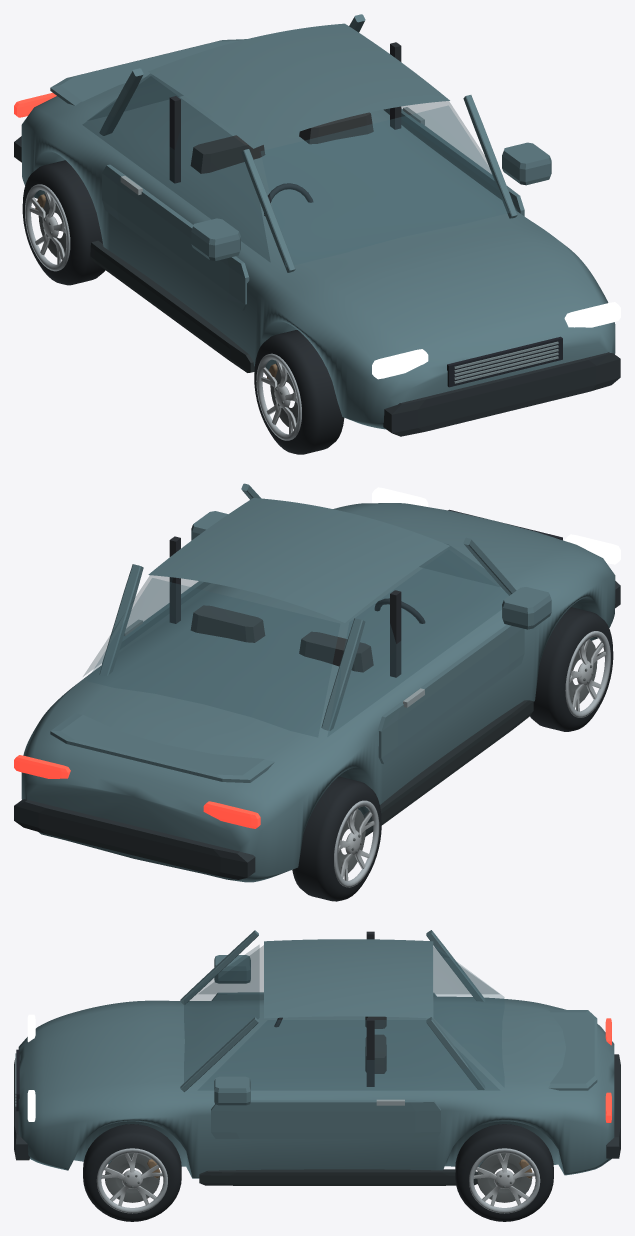
File: dc-native-sedan.glb
3 renders of one model, top to bottom at view 1: azimuth 30°, elevation 25°; view 2: azimuth 150°, elevation 25°; view 3: azimuth 270°, elevation 25°, orthographic. The views are drawn at different scales.
Visible parts, largest first — view 1: asset_BODY_shell, body (×14), asset_GLASS_windshield, roof, asset_GLASS_side_L, FrontLeft_tire, RearLeft_tire, asset_GLASS_side_R, box (×2), asset_GLASS_rear, RearLeft_rim, FrontLeft_rim (+2 smaller); view 2: asset_BODY_shell, body (×15), asset_GLASS_rear, roof, asset_GLASS_side_L, RearLeft_tire, FrontLeft_tire, asset_GLASS_side_R, box (×2), asset_GLASS_windshield, RearLeft_rim, FrontLeft_rim (+2 smaller); view 3: asset_BODY_shell, body (×13), asset_GLASS_side_R, roof, asset_GLASS_windshield, asset_GLASS_rear, RearRight_tire, FrontRight_tire, asset_GLASS_side_L, FrontRight_wheelBrake, RearRight_wheelBrake, FrontRight_rim (+4 smaller).
Part boxes in pixels (<box>): asset_BODY_shell: <box>21,75,615,429</box>; body (×14): <box>50,39,620,436</box>; asset_GLASS_windshield: <box>261,106,516,266</box>; roof: <box>148,23,449,148</box>; asset_GLASS_side_L: <box>83,76,270,261</box>; FrontLeft_tire: <box>254,330,344,454</box>; RearLeft_tire: <box>22,160,105,285</box>; asset_GLASS_side_R: <box>388,101,514,201</box>; box (×2): <box>169,96,562,387</box>; asset_GLASS_rear: <box>87,74,183,120</box>; RearLeft_rim: <box>25,184,70,271</box>; FrontLeft_rim: <box>256,353,301,440</box>; asset_BODY_shell: <box>21,503,615,882</box>; body (×15): <box>14,487,620,879</box>; asset_GLASS_rear: <box>87,578,339,737</box>; roof: <box>148,498,449,622</box>; asset_GLASS_side_L: <box>327,550,509,736</box>; RearLeft_tire: <box>292,776,381,901</box>; FrontLeft_tire: <box>530,607,613,731</box>; asset_GLASS_side_R: <box>83,575,210,676</box>; box (×2): <box>169,536,401,677</box>; asset_GLASS_windshield: <box>419,544,515,590</box>; RearLeft_rim: <box>334,800,379,887</box>; FrontLeft_rim: <box>565,631,610,717</box>; asset_BODY_shell: <box>18,996,614,1178</box>; body (×13): <box>14,930,620,1185</box>; asset_GLASS_side_R: <box>198,1020,499,1090</box>; roof: <box>264,939,433,1018</box>; asset_GLASS_windshield: <box>184,945,259,1082</box>; asset_GLASS_rear: <box>434,945,504,1086</box>; RearRight_tire: <box>455,1124,553,1221</box>; FrontRight_tire: <box>83,1124,181,1221</box>; asset_GLASS_side_L: <box>199,945,498,993</box>; FrontRight_wheelBrake: <box>105,1153,159,1202</box>; RearRight_wheelBrake: <box>477,1153,532,1202</box>; FrontRight_rim: <box>96,1148,167,1213</box>.
Bounding box in the file's own units: 2.35 × 1.58 × 4.48.
